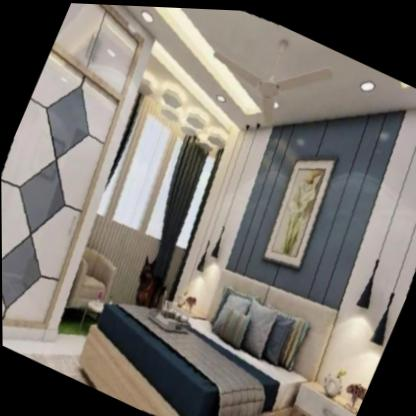Bed: (76, 221, 336, 416)
Nightstand: (271, 363, 364, 416)
